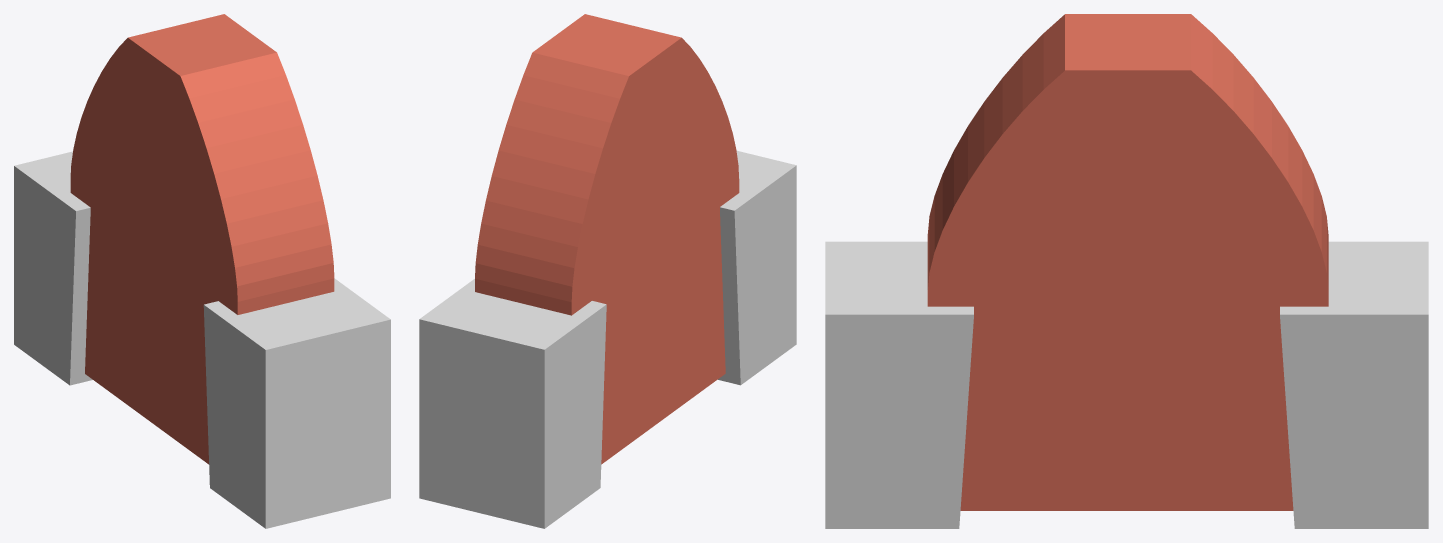
The model's file is cloth.glb.
3 renders of one model, left to right at view 1: azimuth 30°, elevation 25°; view 2: azimuth 150°, elevation 25°; view 3: azimuth 270°, elevation 25°, orthographic. The views are drawn at different scales.
Visible parts, largest first — view 1: 立方体, 立方体.002, 立方体.001; view 2: 立方体, 立方体.001, 立方体.002; view 3: 立方体, 立方体.002, 立方体.001.
Part boxes in pixels (<box>): 立方体: <box>70,14,334,464</box>; 立方体.002: <box>203,278,390,528</box>; 立方体.001: <box>14,151,92,385</box>; 立方体: <box>475,14,739,464</box>; 立方体.001: <box>419,279,606,528</box>; 立方体.002: <box>718,150,796,385</box>; 立方体: <box>927,14,1328,510</box>; 立方体.002: <box>825,241,973,528</box>; 立方体.001: <box>1280,241,1428,528</box>.
Bounding box in the file's own units: 2.33 × 6.68 × 8.11.
